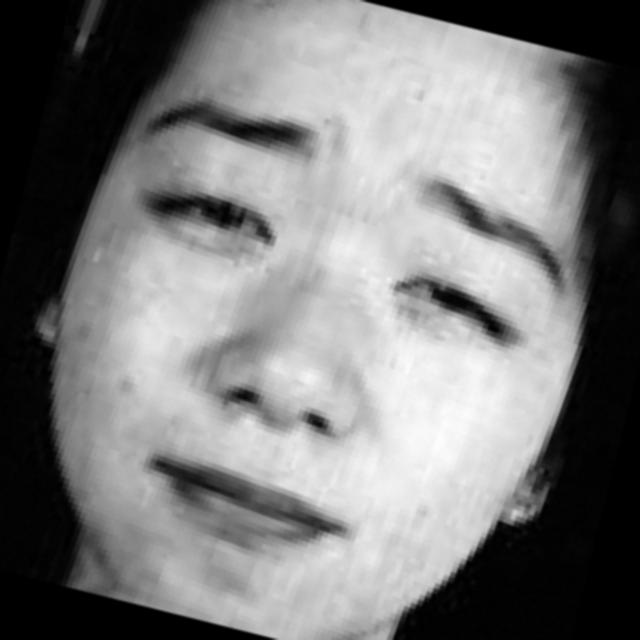sad: (2, 17, 605, 640)
